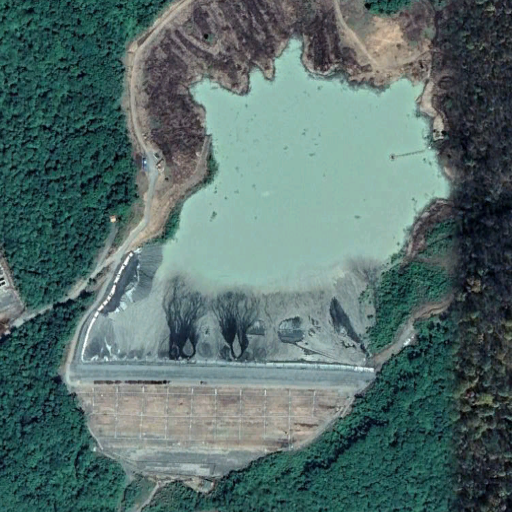tp: (81, 38, 444, 480)
